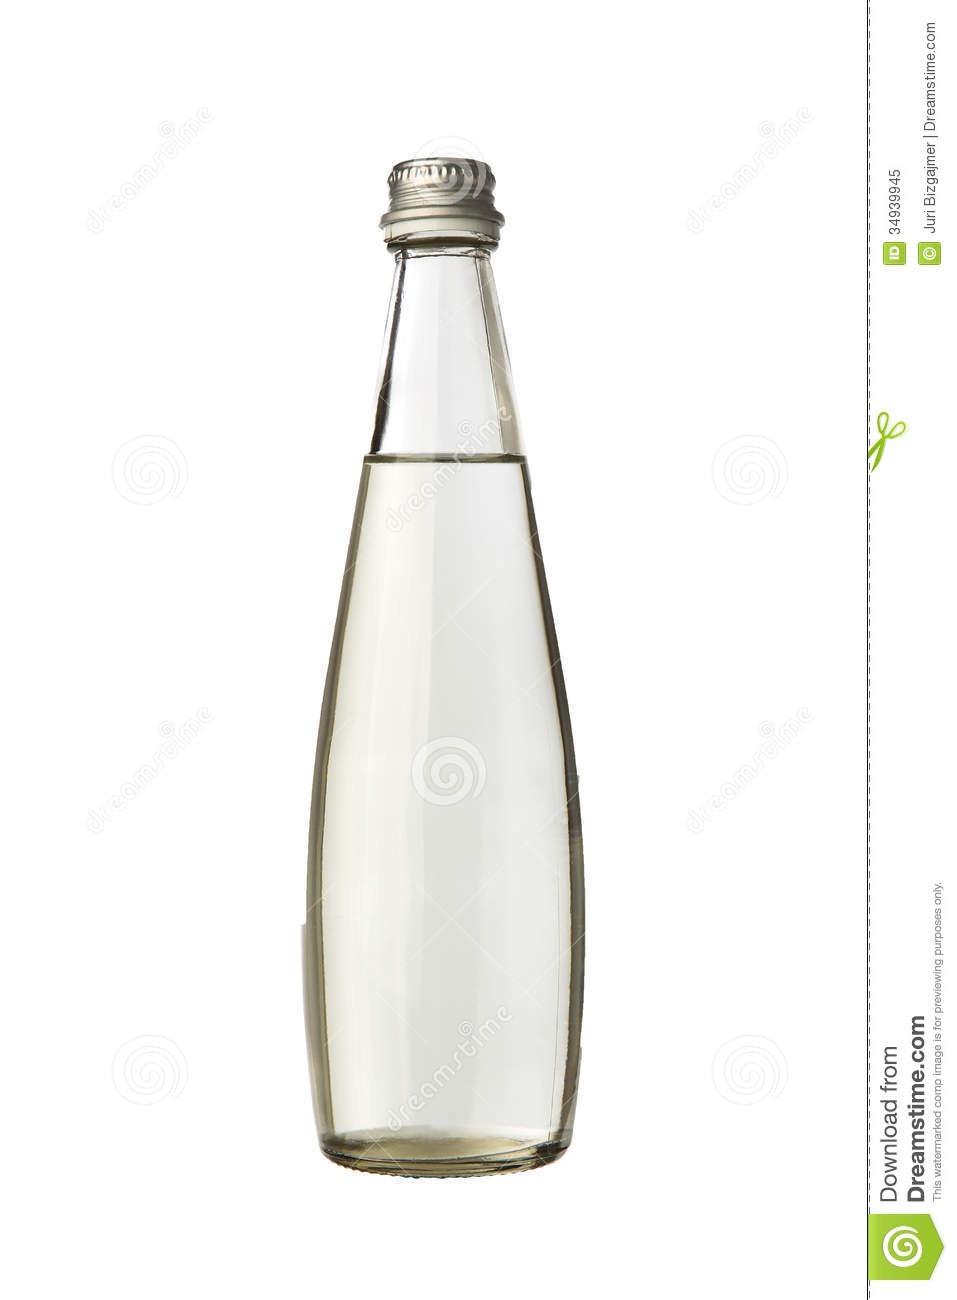container: (297, 147, 604, 1182)
